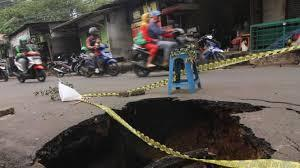Pothole: (18, 92, 286, 168)
